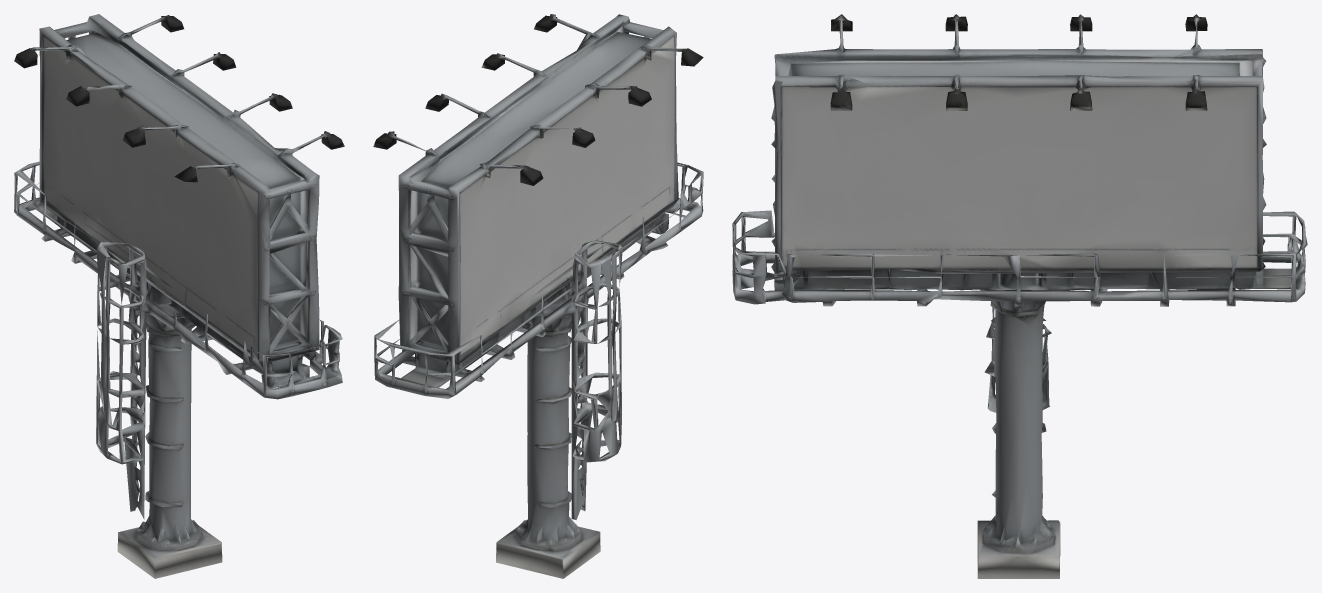
The model's file is billboard.glb.
3 views of the same model, side by side, from view 1: azimuth 30°, elevation 25°; view 2: azimuth 150°, elevation 25°; view 3: azimuth 270°, elevation 25° (orthographic). The views are drawn at different scales.
Visible parts, largest first — view 1: tripo_node_1c80ea06-00f2-4bab-919c-9286360856a7; view 2: tripo_node_1c80ea06-00f2-4bab-919c-9286360856a7; view 3: tripo_node_1c80ea06-00f2-4bab-919c-9286360856a7.
Boxes of the visible parts, box(x1,y1,x2,y2) form: tripo_node_1c80ea06-00f2-4bab-919c-9286360856a7: box(14, 14, 344, 578); tripo_node_1c80ea06-00f2-4bab-919c-9286360856a7: box(373, 14, 703, 578); tripo_node_1c80ea06-00f2-4bab-919c-9286360856a7: box(732, 14, 1307, 578).
Size of the model in its own units: 0.3573 by 0.9881 by 1.
Materials: 1 (1 with a texture image).
